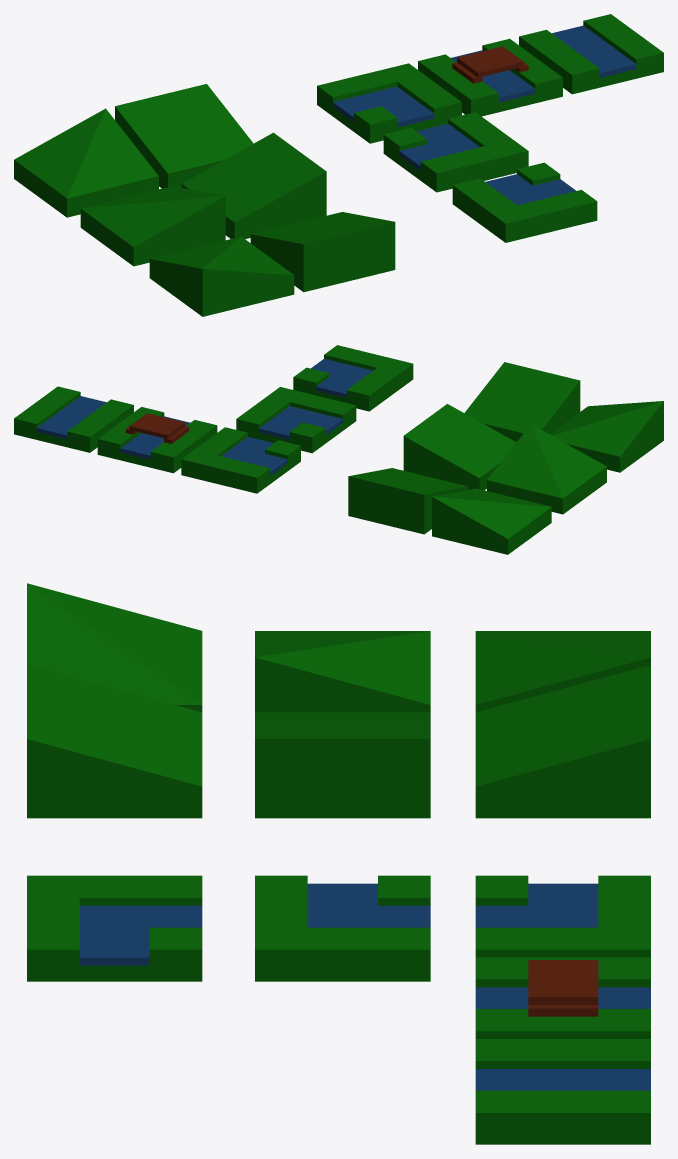
Rendered from TileSetRot.FBX.
3 views of the same model, one above another, from view 1: azimuth 30°, elevation 25°; view 2: azimuth 150°, elevation 25°; view 3: azimuth 270°, elevation 25° (orthographic). The views are drawn at different scales.
Visible parts, largest first — view 1: Box1015, Box1017, Box1014, Box1018, Box1020, Box1021, Box1019, Box1012, Box1016, Box1011, Box1013; view 2: Box1018, Box1017, Box1020, Box1015, Box1021, Box1012, Box1016, Box1019, Box1014, Box1013, Box1011; view 3: Box1014, Box1020, Box1017, Box1019, Box1011, Box1016, Box1021, Box1013, Box1018, Box1012, Box1015.
Part boxes in pixels (x1,y1,x2,y2): Box1015: (14, 108, 158, 217); Box1017: (181, 132, 326, 239); Box1014: (115, 84, 253, 188); Box1018: (80, 186, 225, 266); Box1020: (250, 212, 395, 292); Box1021: (149, 236, 294, 316); Box1019: (452, 162, 597, 242); Box1012: (317, 63, 461, 143); Box1016: (383, 112, 528, 192); Box1011: (519, 14, 663, 94); Box1013: (418, 38, 562, 116); Box1018: (487, 424, 606, 514); Box1017: (403, 404, 516, 490); Box1020: (464, 362, 580, 442); Box1015: (432, 488, 551, 554); Box1021: (550, 401, 663, 472); Box1012: (181, 427, 300, 493); Box1016: (236, 387, 356, 453); Box1019: (293, 345, 413, 411); Box1014: (348, 468, 468, 534); Box1013: (97, 407, 217, 473); Box1011: (14, 386, 133, 452); Box1014: (475, 665, 650, 818); Box1020: (27, 665, 202, 818); Box1017: (255, 712, 430, 818); Box1019: (27, 875, 202, 981); Box1011: (475, 1039, 650, 1144); Box1016: (255, 875, 430, 981); Box1021: (27, 583, 202, 712); Box1013: (475, 957, 650, 1038); Box1018: (255, 631, 430, 712); Box1012: (475, 875, 650, 957); Box1015: (475, 631, 650, 712).
Size of the model in its own units: 6501 by 3558 by 500.
